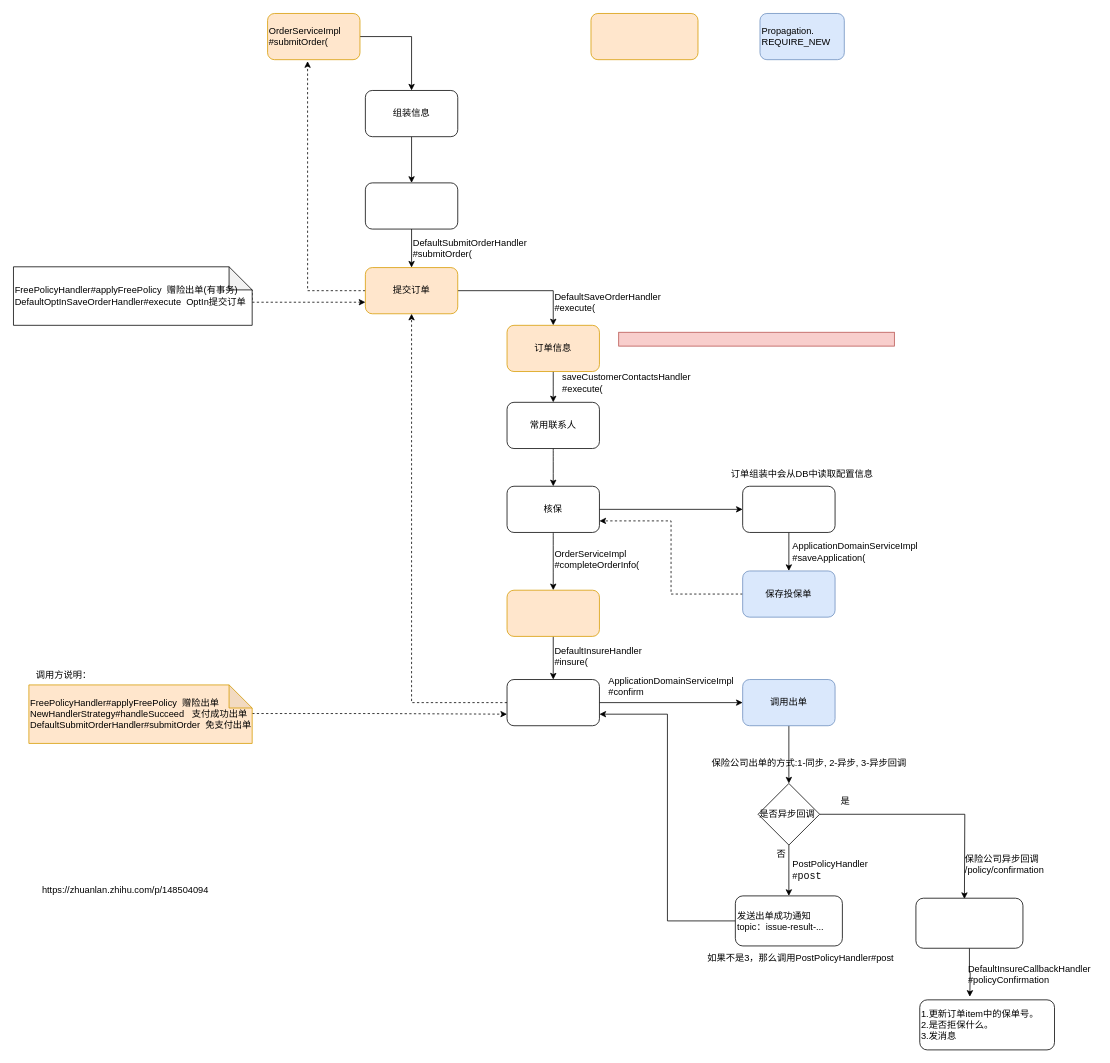
Image size: 1110x1063. Some labels were removed from this diagram. Here are the shapes that lost their labels. From the top down, the box of each, then its label:
(590, 13, 698, 60): Propagation.REQUIRE
(365, 182, 458, 229): 校验保费
(618, 331, 894, 346): 这个位置如果失败了，订单状态为New，不可用，不需要回滚事务
(742, 485, 835, 532): 根据配置完成内外核保
(506, 589, 599, 636): 完善订单信息
(506, 679, 599, 726): 出单
(915, 897, 1023, 948): PolicyController #insureConfirmation
